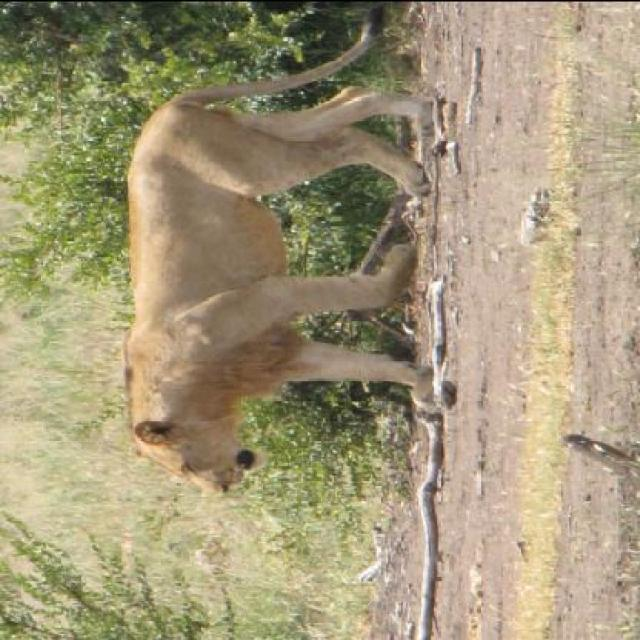Lion: (103, 3, 448, 512)
